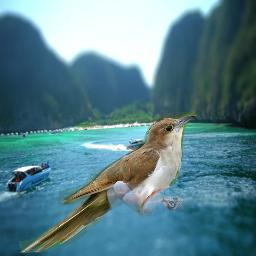Cuckoo: (19, 112, 197, 253)
